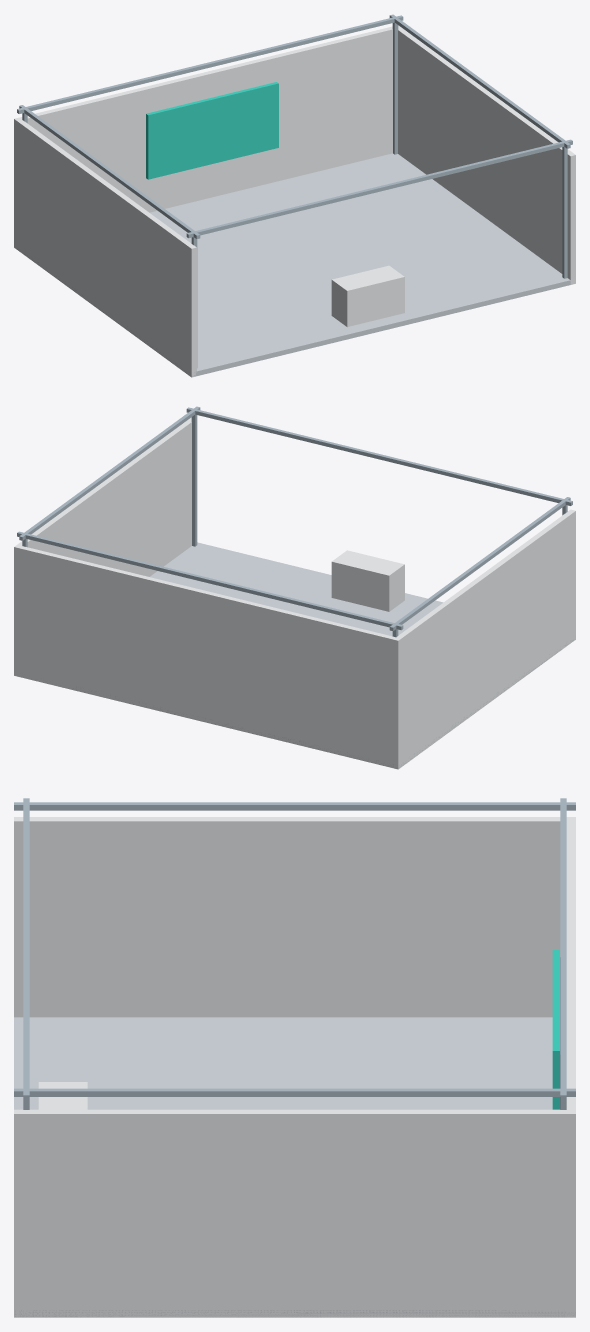
The picture shows the model from 3 angles, top to bottom: view 1: azimuth 30°, elevation 25°; view 2: azimuth 150°, elevation 25°; view 3: azimuth 270°, elevation 25°; orthographic projection. The views are drawn at different scales.
Parts seen in each view (by area): view 1: Exhibition Booth Concept; view 2: Exhibition Booth Concept; view 3: Exhibition Booth Concept.
Boxes of the visible parts, x1=… form: Exhibition Booth Concept: x1=14, y1=14, x2=575, y2=377; Exhibition Booth Concept: x1=14, y1=406, x2=575, y2=769; Exhibition Booth Concept: x1=14, y1=798, x2=575, y2=1317.
Bounding box in the file's own units: 10 × 3.49 × 8.
